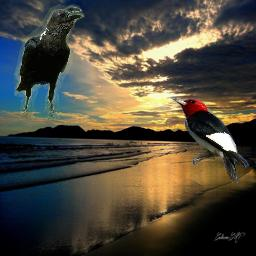Crow: (14, 4, 85, 120)
Woodpecker: (169, 97, 250, 186)
